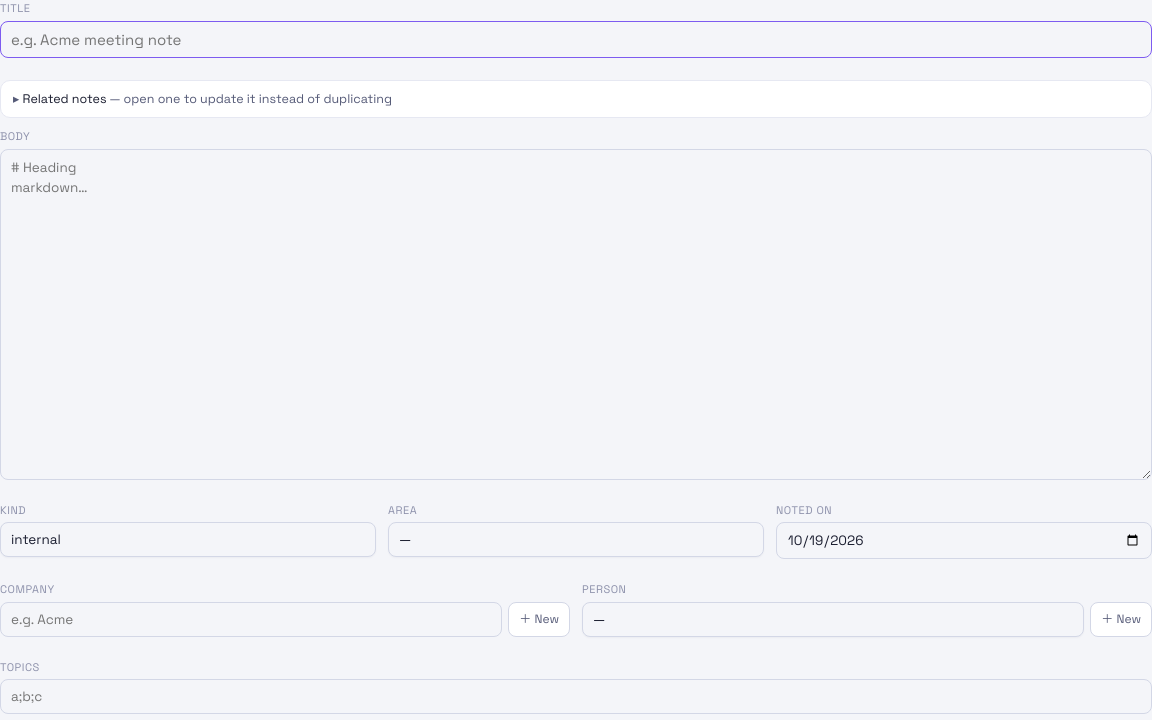
NoteCreate (Aito-inferred note) › adds a new company inline and selects it on the note
Expected: the field with placeholder "e.g. Acme meeting note" is shown, [0,20,1151,58]
Note: open the "＋ New" next to company (there are two — company is the first)
Click the 1st button "＋ New" at (539, 619), box [508,602,570,637]
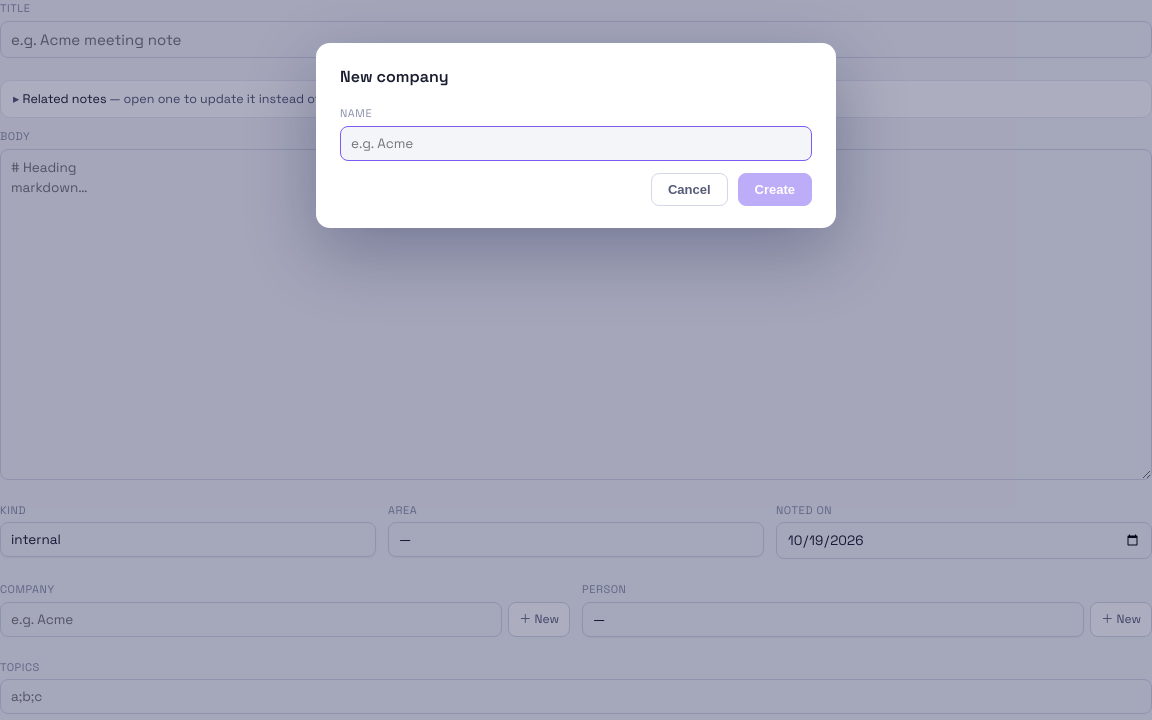
Expected: the heading "New company" is shown, [340,66,448,87]
Type "NovaCo" into the field labelled "name" at (576, 143), box [340,126,812,161]
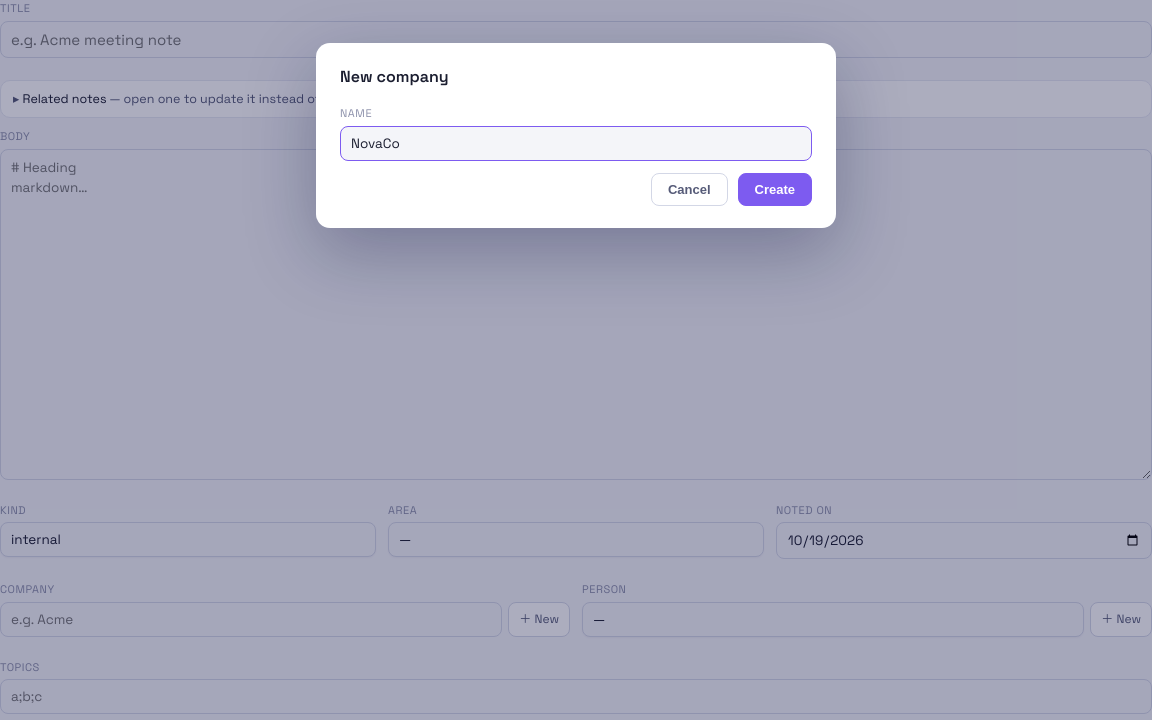
Click the button "Create" at (775, 189), box [738,173,812,206]
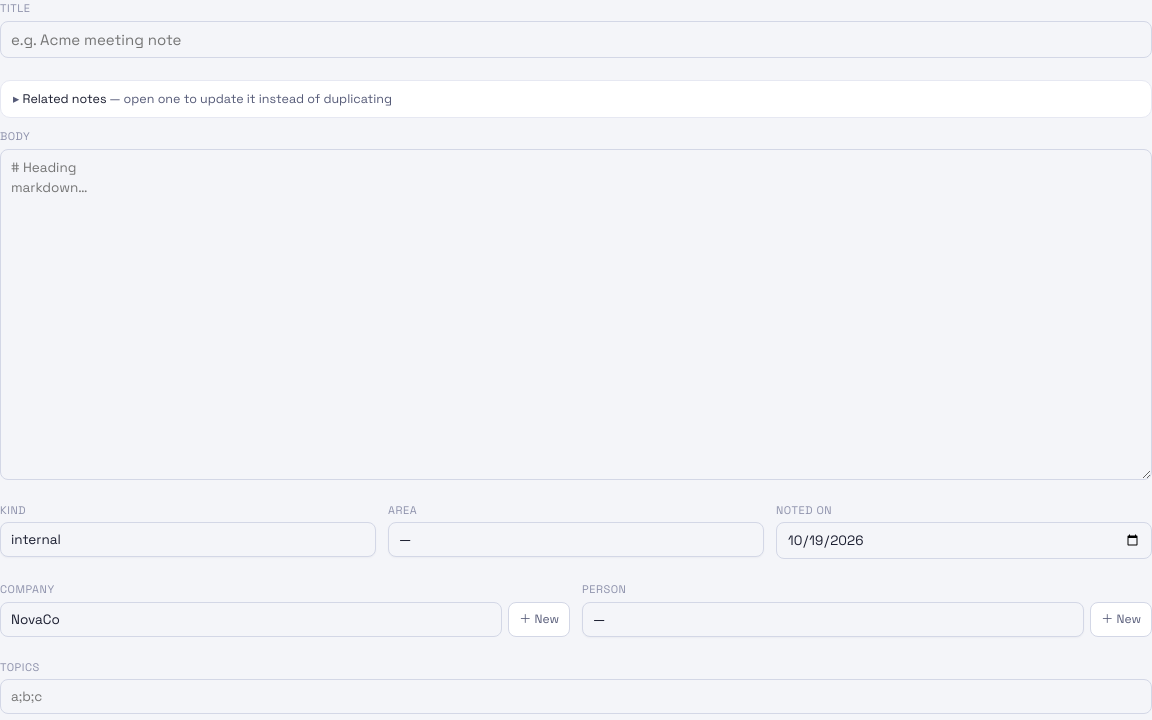
Expected: the field with placeholder "e.g. Acme" holds "NovaCo", [0,602,502,637]
